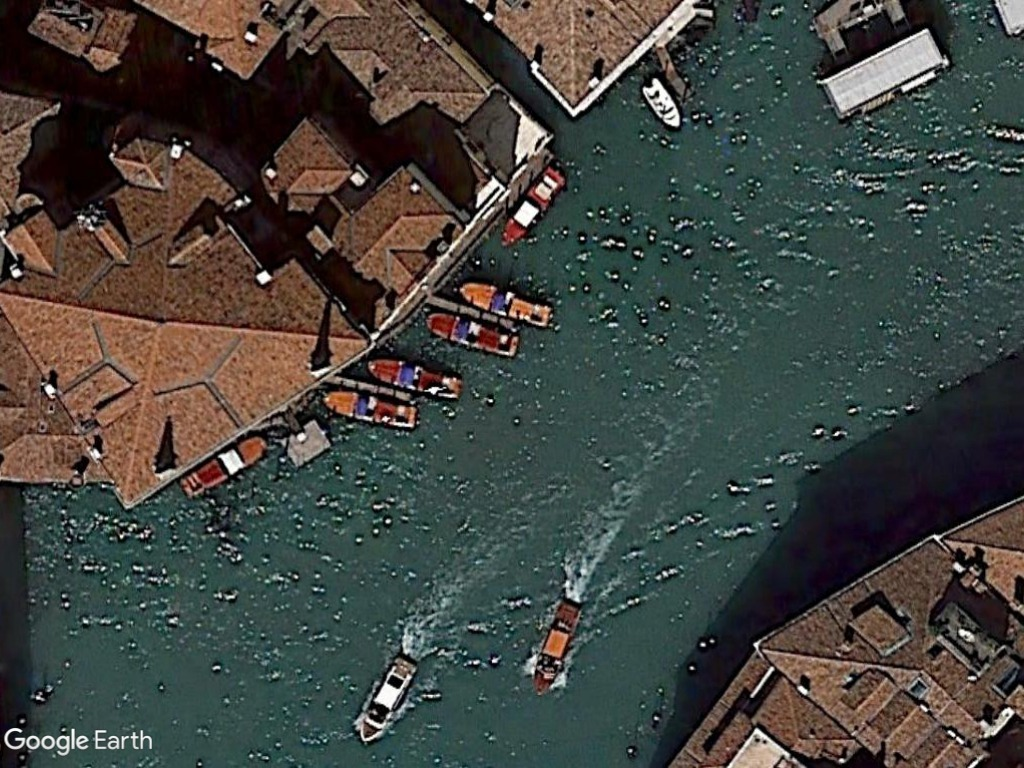boat: (174, 427, 275, 503), (497, 161, 571, 250), (357, 657, 420, 746), (529, 598, 588, 693), (453, 278, 557, 331), (423, 308, 522, 361), (316, 387, 421, 433), (365, 355, 464, 403), (636, 75, 686, 133)
